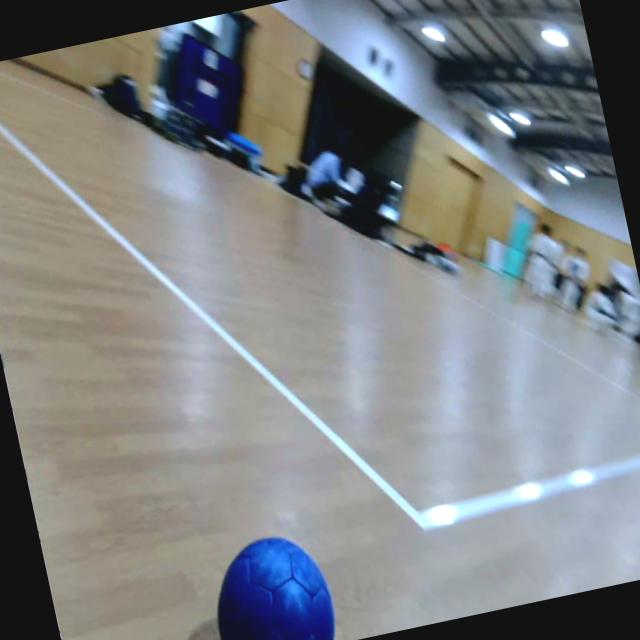blue_ball: (202, 522, 340, 640)
